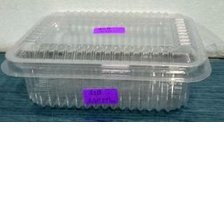plastic_box: (0, 4, 217, 119)
